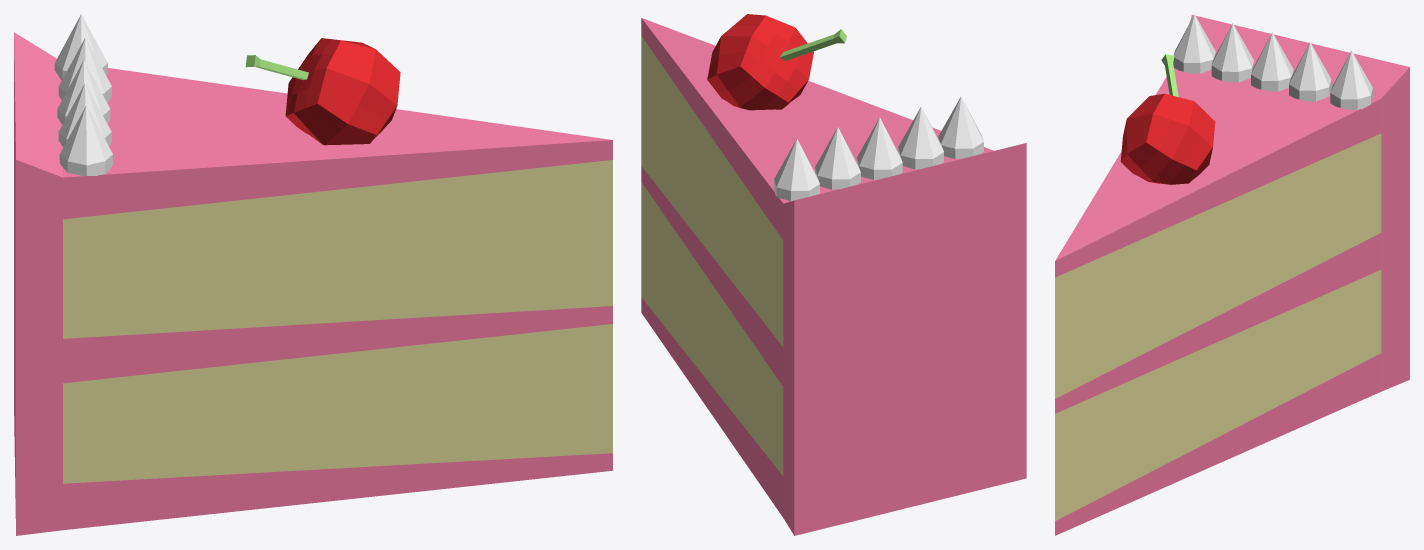
Rendered from cake.fbx.
The picture shows the model from 3 angles, left to right: view 1: azimuth 30°, elevation 25°; view 2: azimuth 150°, elevation 25°; view 3: azimuth 270°, elevation 25°; orthographic projection. The views are drawn at different scales.
Parts seen in each view (by area): view 1: cake; view 2: cake; view 3: cake.
Part boxes in pixels (x1,y1,x2,y2): cake: (14,14,612,535); cake: (641,14,1026,535); cake: (1055,14,1409,535).
Bounding box in the file's own units: 173 × 141 × 125.
